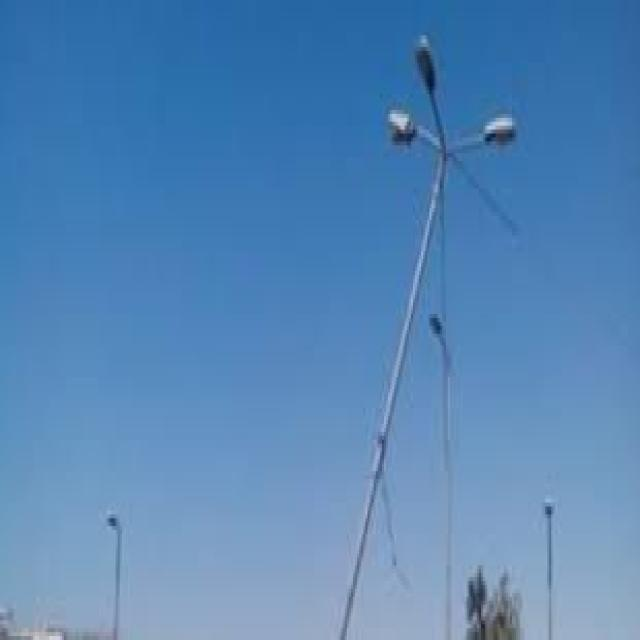Street Light: (341, 102, 516, 640), (411, 43, 450, 640), (103, 510, 122, 640), (540, 494, 555, 640)
